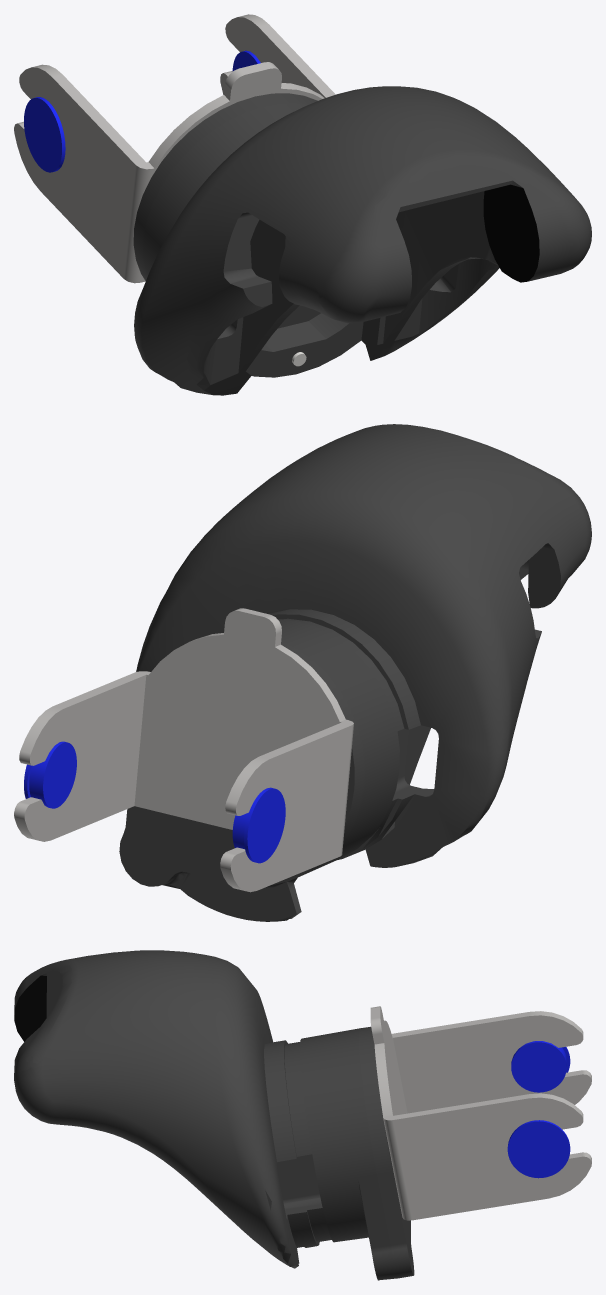
The model's file is r_shoulder_link.dae.
3 views of the same model, one above another, from view 1: azimuth 30°, elevation 25°; view 2: azimuth 150°, elevation 25°; view 3: azimuth 270°, elevation 25° (orthographic). The views are drawn at different scales.
Visible parts, largest first — view 1: FBXASC227FBXASC130FBXASC189FBXASC227FBXASC131FBXASC170FBXASC (×4); view 2: FBXASC227FBXASC130FBXASC189FBXASC227FBXASC131FBXASC170FBXASC (×5); view 3: FBXASC227FBXASC130FBXASC189FBXASC227FBXASC131FBXASC170FBXASC (×5).
Boxes of the visible parts, bbox=[...] form: FBXASC227FBXASC130FBXASC189FBXASC227FBXASC131FBXASC170FBXASC (×4): bbox=[14, 14, 591, 395]; FBXASC227FBXASC130FBXASC189FBXASC227FBXASC131FBXASC170FBXASC (×5): bbox=[14, 424, 591, 921]; FBXASC227FBXASC130FBXASC189FBXASC227FBXASC131FBXASC170FBXASC (×5): bbox=[14, 950, 591, 1280].
Size of the model in its own units: 0.0865 by 0.1441 by 0.0791.
